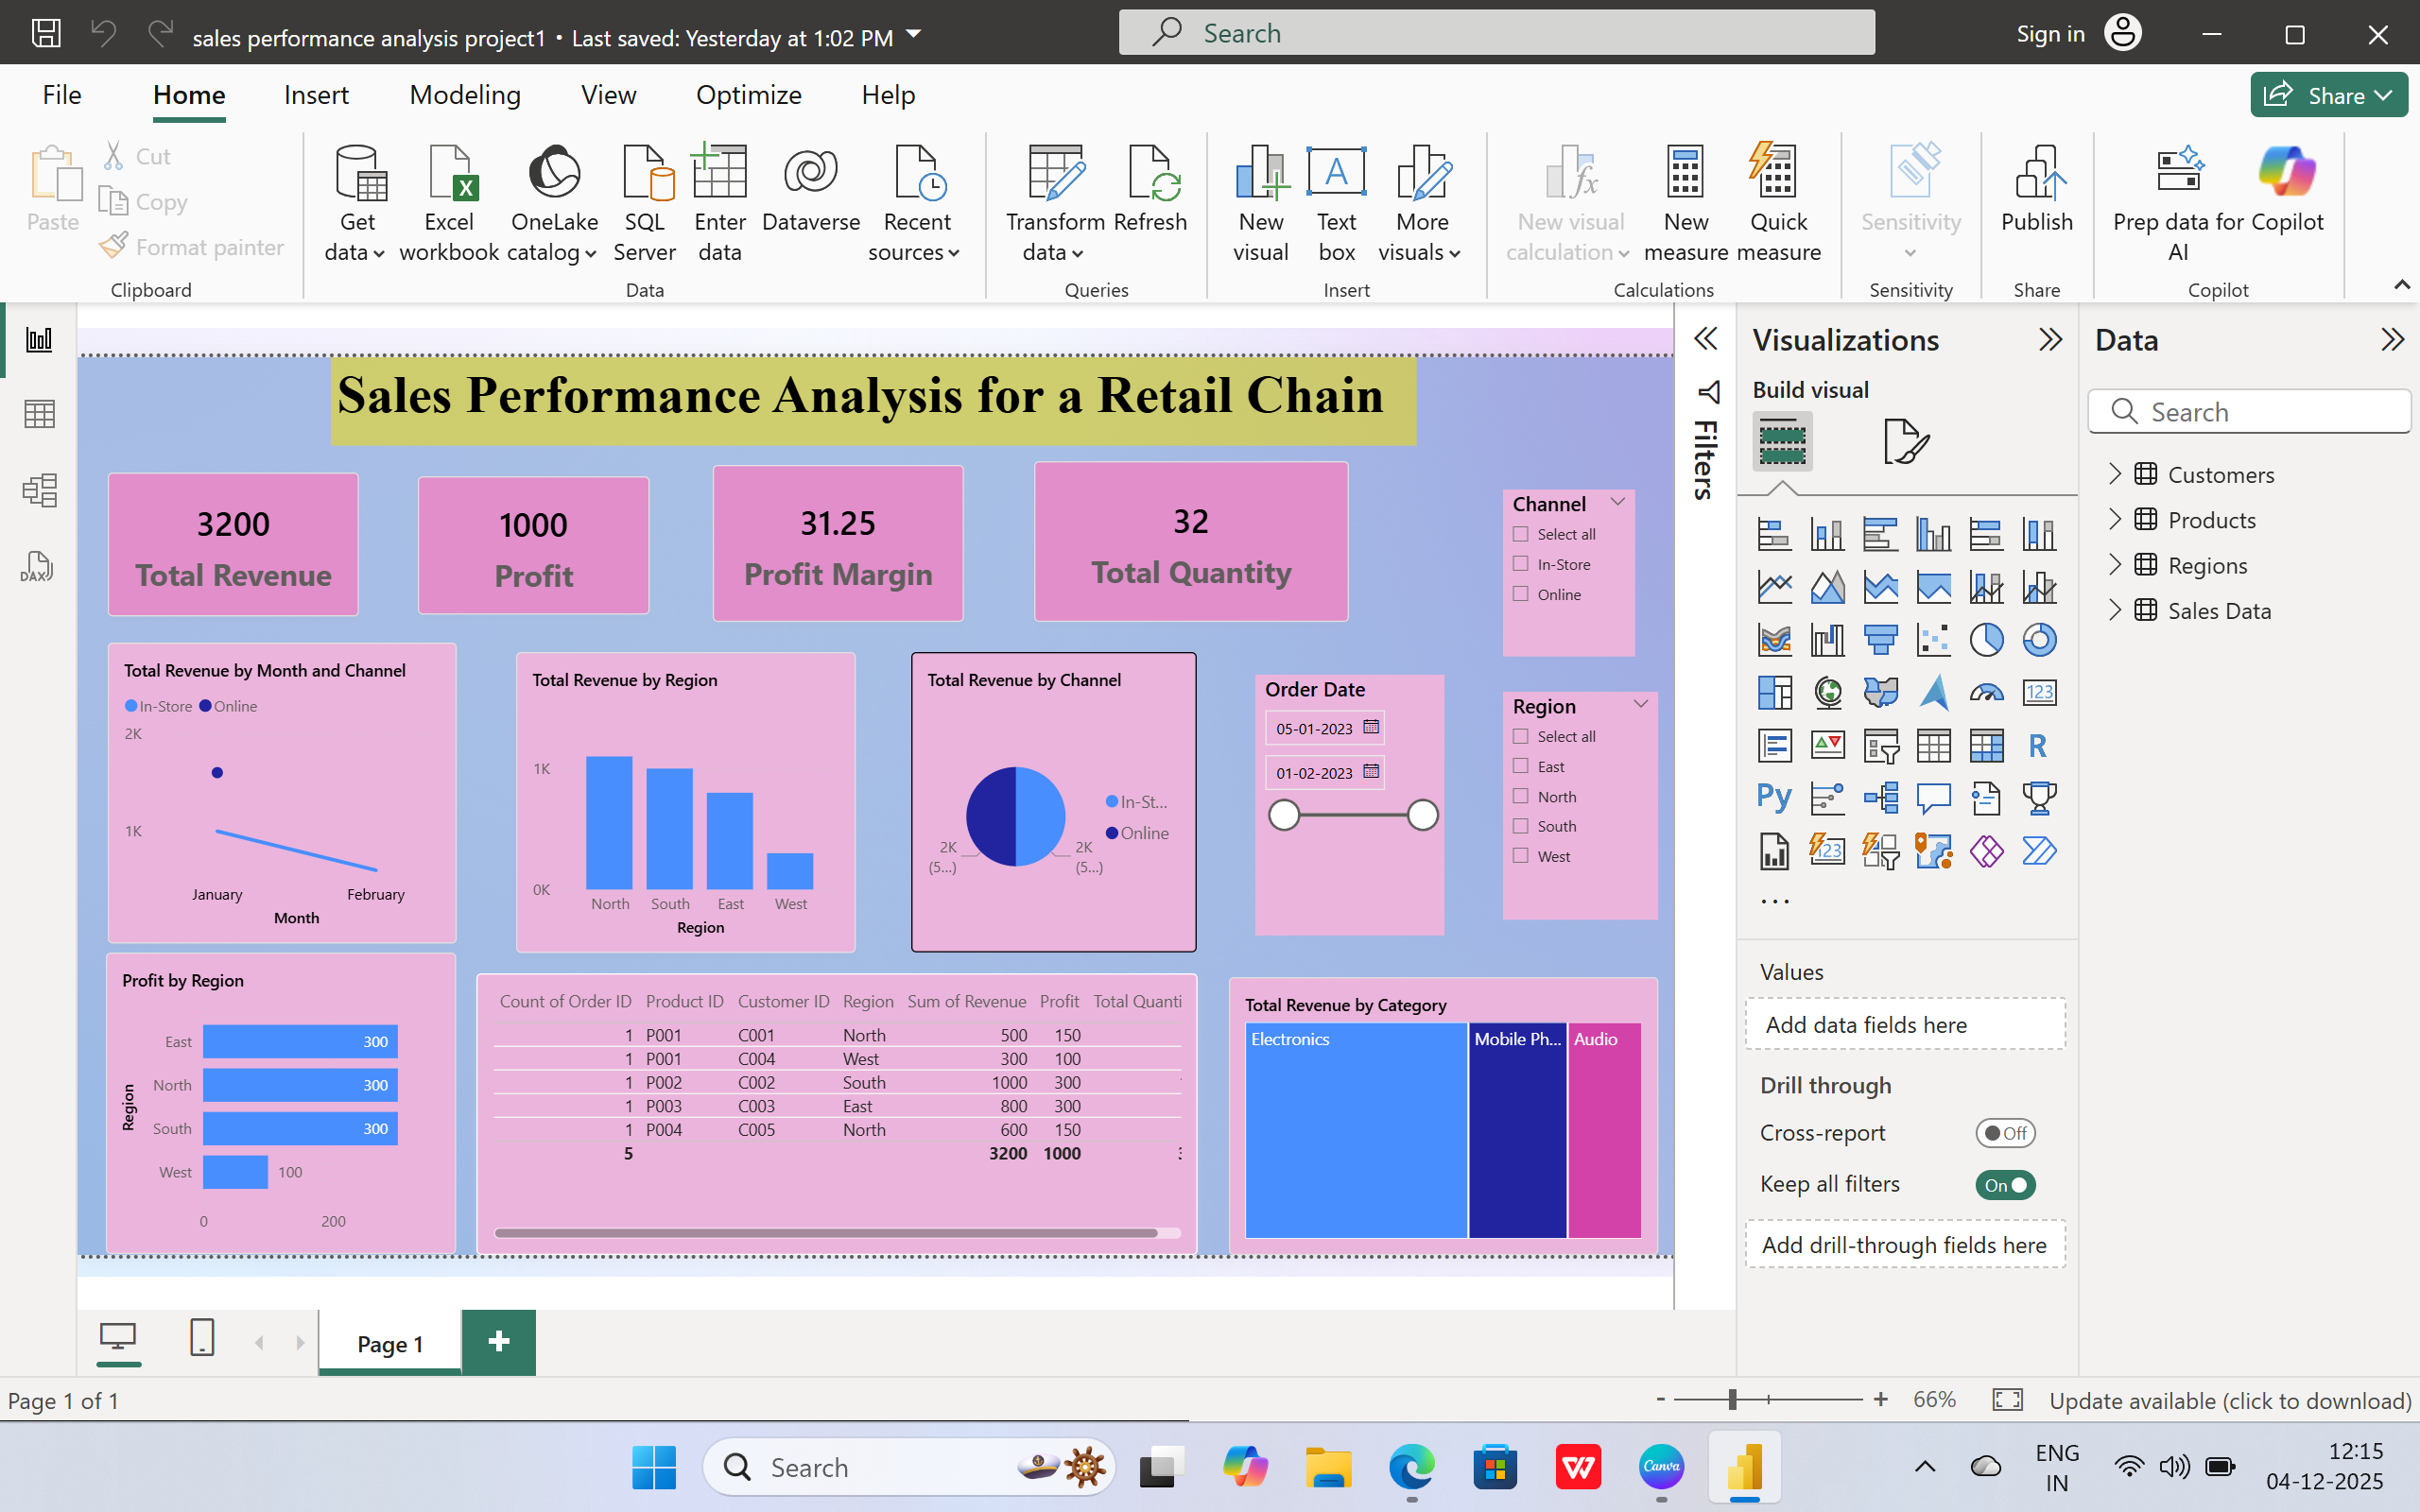

The page's visual inventory and layout, read from the dashboard file:
{"tool":"powerbi","page":{"name":"Page 1","canvas":[1280,720],"ordinal":0},"visuals":[{"type":"card","fields":{"Values":["Sales Data.Total Revenue"]},"box":[24.6,92.3,201.5,115.4],"z":0},{"type":"card","fields":{"Values":["Sales Data.Profit"]},"box":[272.3,95.4,186.2,110.8],"z":1000},{"type":"card","fields":{"Values":["Sales Data.Profit Margin"]},"box":[509.2,86.2,201.5,126.2],"z":2000},{"type":"card","fields":{"Values":["Sales Data.Total Quantity"]},"box":[767.7,83.1,252.3,129.2],"z":3000},{"type":"lineChart","fields":{"Category":["Sales Data.Order Date.Variation.Date Hierarchy.Month"],"Y":["Sales Data.Total Revenue"],"Series":["Sales Data.Channel"]},"box":[24.6,229.2,280,241.5],"z":4000},{"type":"columnChart","fields":{"Category":["Sales Data.Region"],"Y":["Sales Data.Total Revenue"]},"box":[352.3,236.9,272.3,241.5],"z":5000},{"type":"pieChart","fields":{"Y":["Sales Data.Total Revenue"],"Category":["Sales Data.Channel"]},"box":[668.8,236.6,229,241.1],"z":6000},{"type":"treemap","fields":{"Group":["Products.Category"],"Values":["Sales Data.Total Revenue"]},"box":[923.1,496.9,344.6,223.1],"z":7000},{"type":"barChart","fields":{"Category":["Sales Data.Region"],"Y":["Sales Data.Profit"]},"box":[22.8,478.5,281,241.8],"z":8000},{"type":"tableEx","fields":{"Values":["CountNonNull(Sales Data.Order ID)","Products.Product ID","Customers.Customer ID","Sales Data.Region","Sum(Sales Data.Revenue)","Sales Data.Profit","Sales Data.Total Quantity"]},"box":[320,493.8,578.5,226.2],"z":9000},{"type":"slicer","fields":{"Values":["Sales Data.Region"]},"box":[1143.1,267.7,124.6,183.1],"z":10000},{"type":"slicer","fields":{"Values":["Sales Data.Channel"]},"box":[1143.1,106.2,106.2,133.8],"z":11000},{"type":"slicer","fields":{"Values":["Sales Data.Order Date"]},"box":[944.6,255.4,150.8,209.2],"z":12000},{"type":"textbox","box":[203.1,0,870.8,70.8],"z":13000}]}

Visuals, with their boxes on the page's 1280x720 design canvas (x1, y1, x2, y2). These are canvas units, not pixel positions in the 2420x1512 screenshot, which may show the page scaled, cropped or inside an application window:
card - Sales Data.Total Revenue: <region>25, 92, 226, 208</region>
card - Sales Data.Profit: <region>272, 95, 458, 206</region>
card - Sales Data.Profit Margin: <region>509, 86, 711, 212</region>
card - Sales Data.Total Quantity: <region>768, 83, 1020, 212</region>
lineChart - Sales Data.Order Date.Variation.Date Hierarchy.Month x Sales Data.Total Revenue: <region>25, 229, 305, 471</region>
columnChart - Sales Data.Region x Sales Data.Total Revenue: <region>352, 237, 625, 478</region>
pieChart - Sales Data.Total Revenue x Sales Data.Channel: <region>669, 237, 898, 478</region>
treemap - Products.Category x Sales Data.Total Revenue: <region>923, 497, 1268, 720</region>
barChart - Sales Data.Region x Sales Data.Profit: <region>23, 478, 304, 720</region>
tableEx - CountNonNull(Sales Data.Order ID) x Products.Product ID: <region>320, 494, 898, 720</region>
slicer - Sales Data.Region: <region>1143, 268, 1268, 451</region>
slicer - Sales Data.Channel: <region>1143, 106, 1249, 240</region>
slicer - Sales Data.Order Date: <region>945, 255, 1095, 465</region>
textbox: <region>203, 0, 1074, 71</region>
